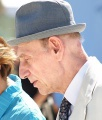male: (15, 24, 77, 96)
